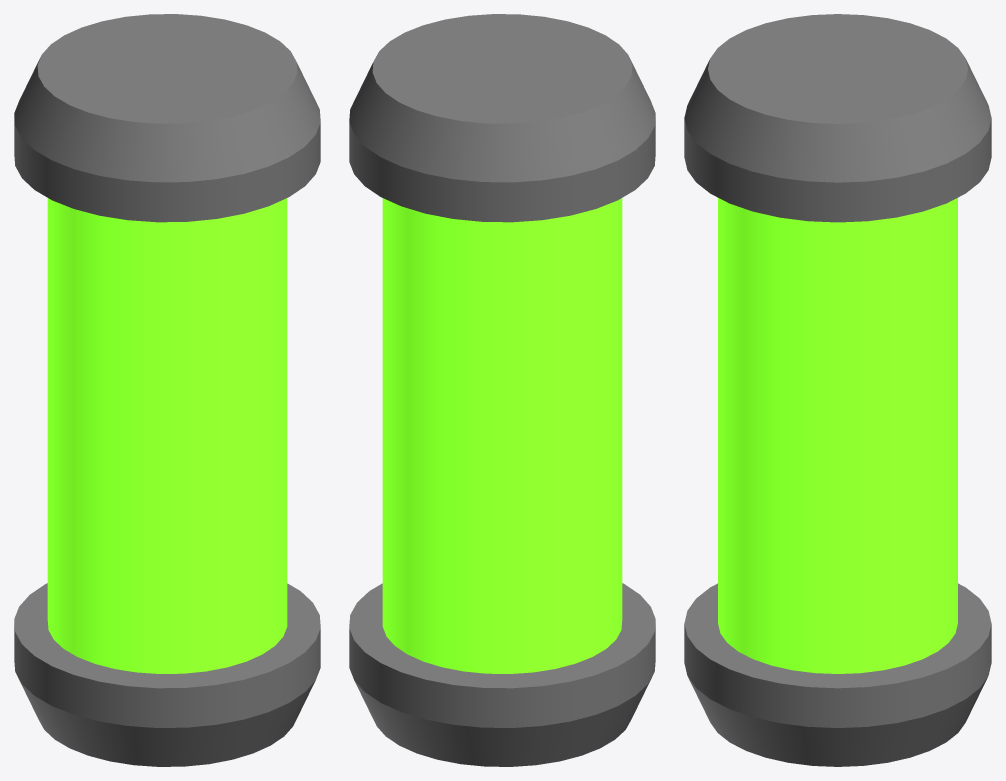
The model's file is alienPowerCell.fbx.
3 renders of one model, left to right at view 1: azimuth 30°, elevation 25°; view 2: azimuth 150°, elevation 25°; view 3: azimuth 270°, elevation 25°, orthographic.
Parts seen in each view (by area): view 1: Cylinder; view 2: Cylinder; view 3: Cylinder.
Boxes of the visible parts, x1=… form: Cylinder: x1=14, y1=14, x2=320, y2=766; Cylinder: x1=349, y1=14, x2=655, y2=766; Cylinder: x1=684, y1=14, x2=991, y2=766.
Bounding box in the file's own units: 86.58 × 200 × 86.58.
